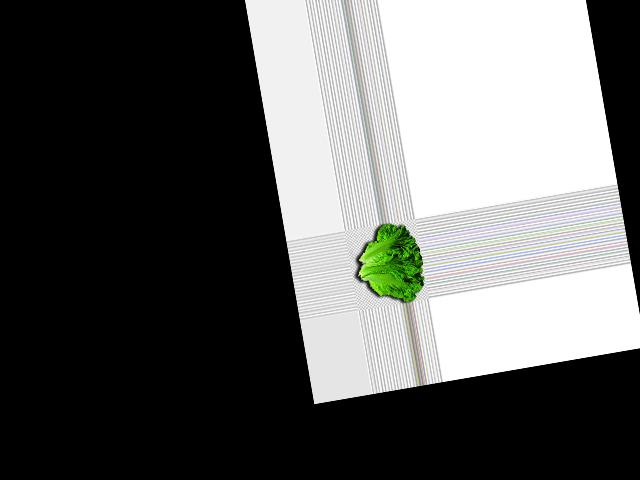lettuce: (348, 217, 428, 308)
